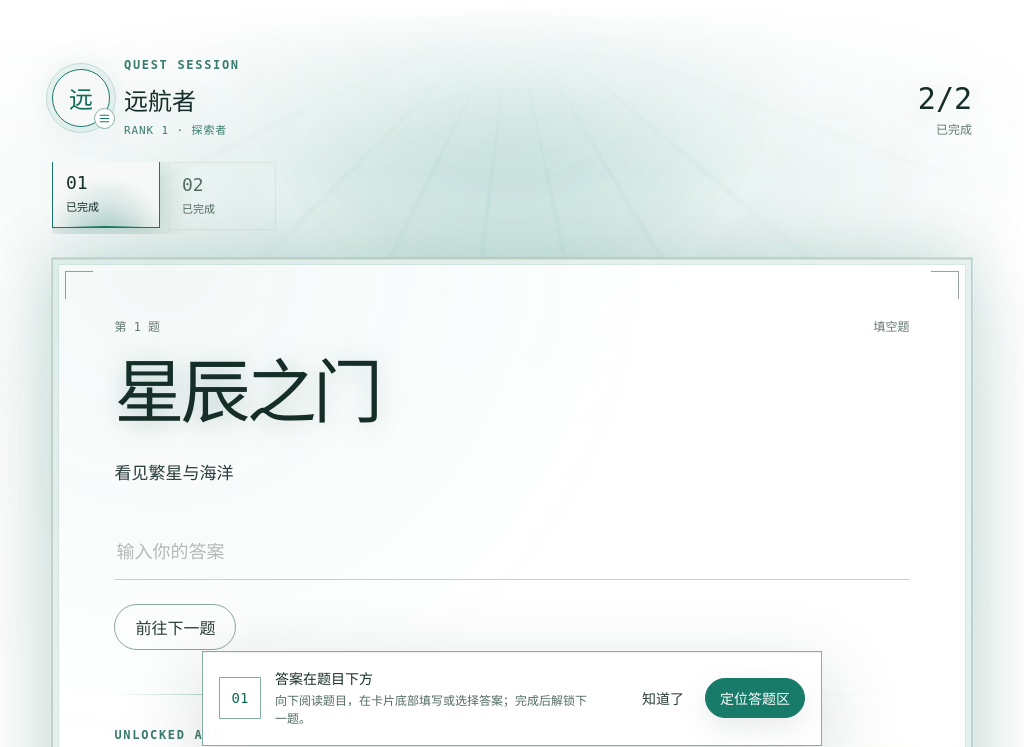
Test case: session and question clue integration › shows a common clue only on its concrete session level on mobile
The image size is (1024, 747).
Expected: the text "第二题通用线索" is not shown
Click the button "02 已完成": (222, 196) x1=168 y1=162 x2=276 y2=230
(page scrolled)
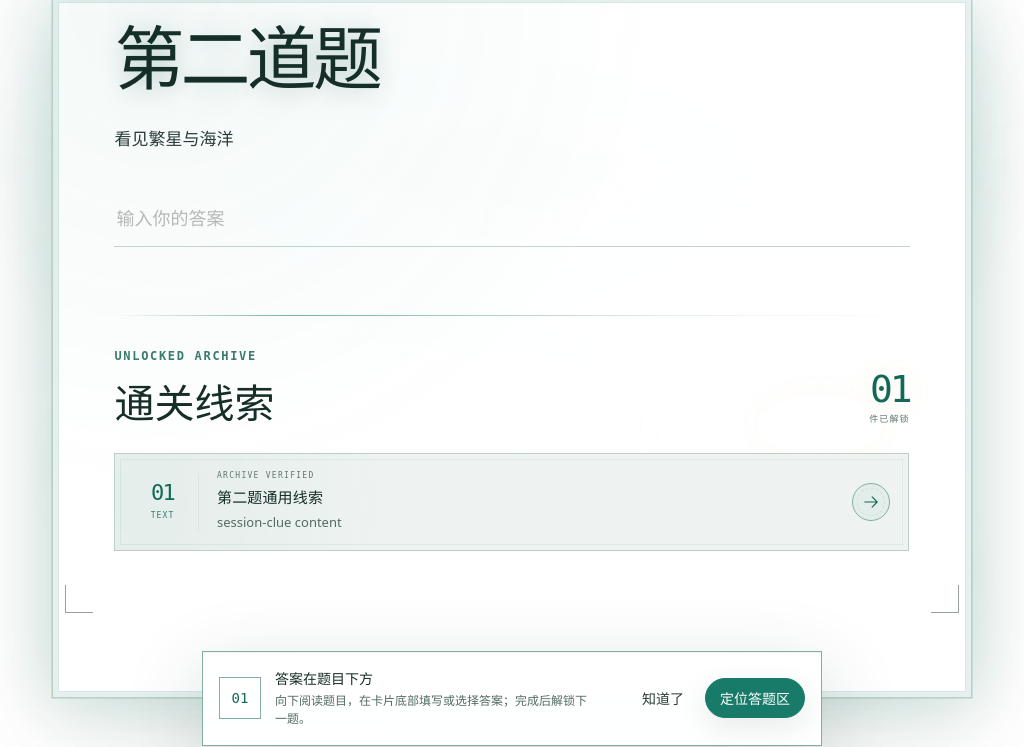
Now the text "第二题通用线索" is shown, box x1=217 y1=486 x2=324 y2=506
